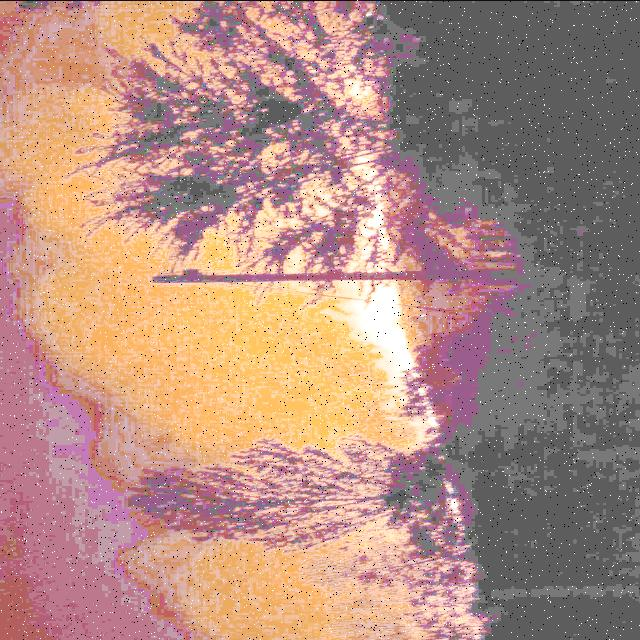api: (339, 279, 441, 436)
asap: (1, 1, 446, 567)
